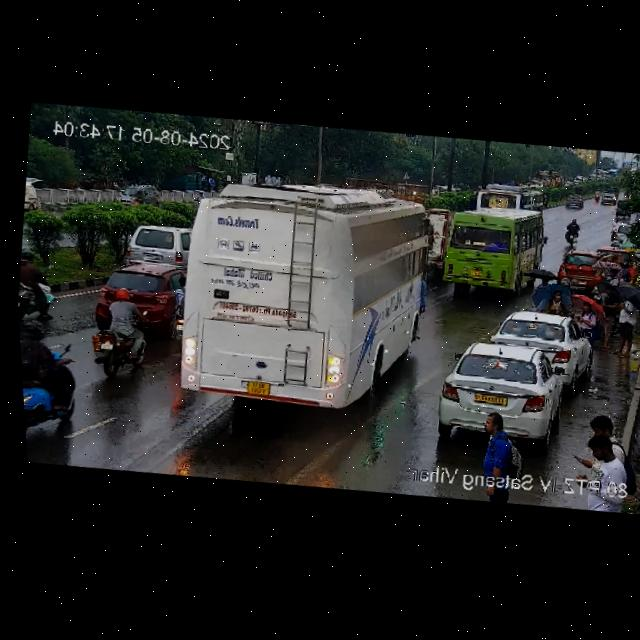bus: (161, 164, 449, 426), (433, 194, 554, 296), (465, 178, 547, 216)
car: (431, 333, 588, 449), (88, 252, 185, 338), (484, 304, 594, 378), (118, 218, 192, 269), (551, 246, 598, 290), (114, 178, 162, 209), (558, 192, 586, 211), (598, 190, 619, 206)
motorcycle: (19, 317, 82, 438), (84, 286, 153, 377), (15, 257, 59, 325), (557, 216, 583, 249), (590, 188, 602, 204)
person: (572, 412, 635, 486), (566, 437, 637, 491), (473, 414, 529, 479), (604, 288, 640, 358), (567, 288, 604, 342), (526, 277, 570, 317), (608, 254, 640, 283), (608, 215, 625, 242)
